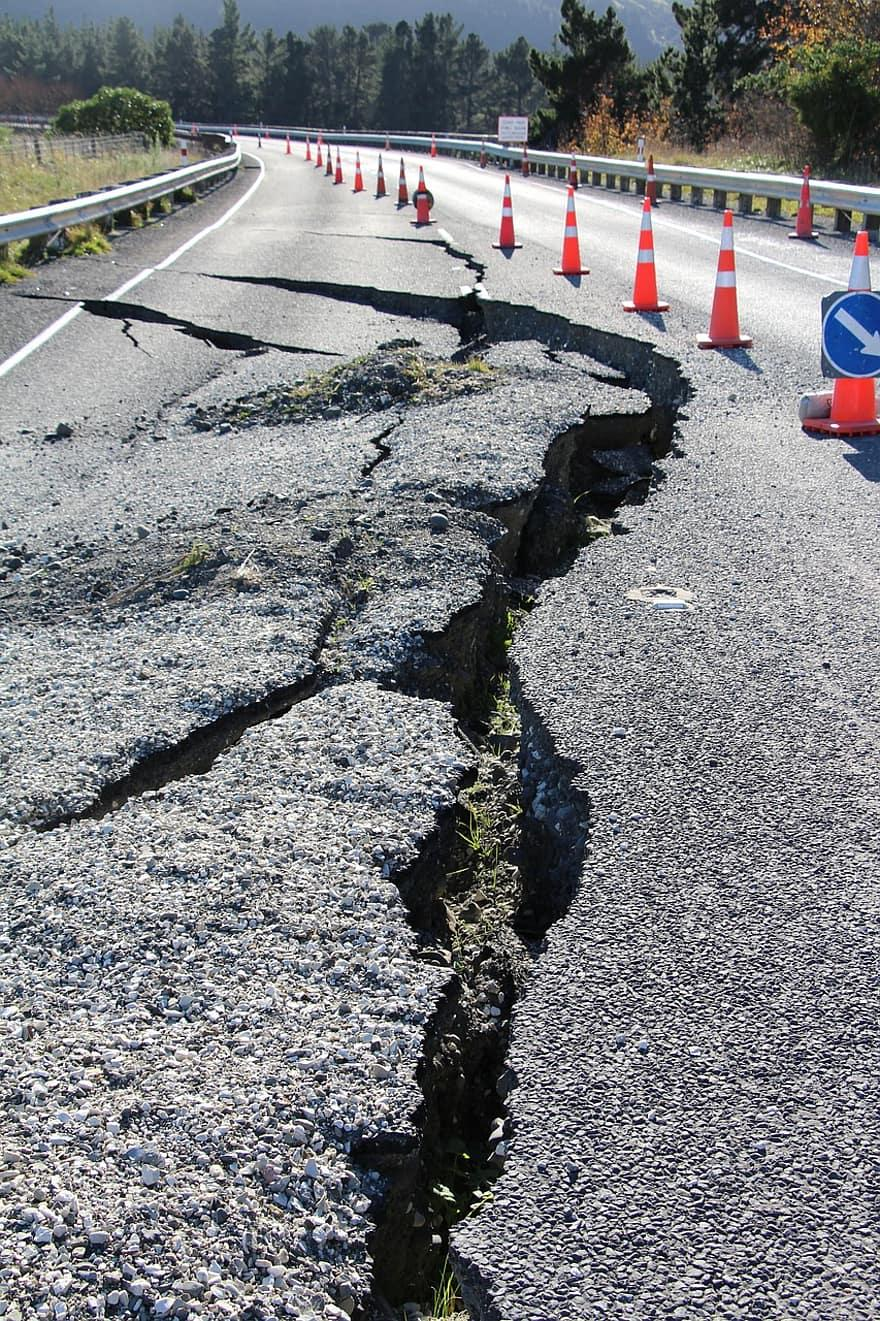crackedroads: (352, 298, 692, 1317), (58, 668, 325, 819), (226, 271, 480, 330)
